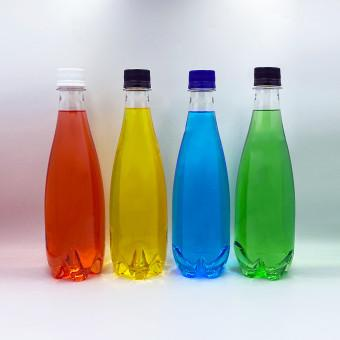bottle: (60, 65, 90, 279), (250, 67, 278, 279), (126, 64, 151, 276), (188, 67, 210, 274)
